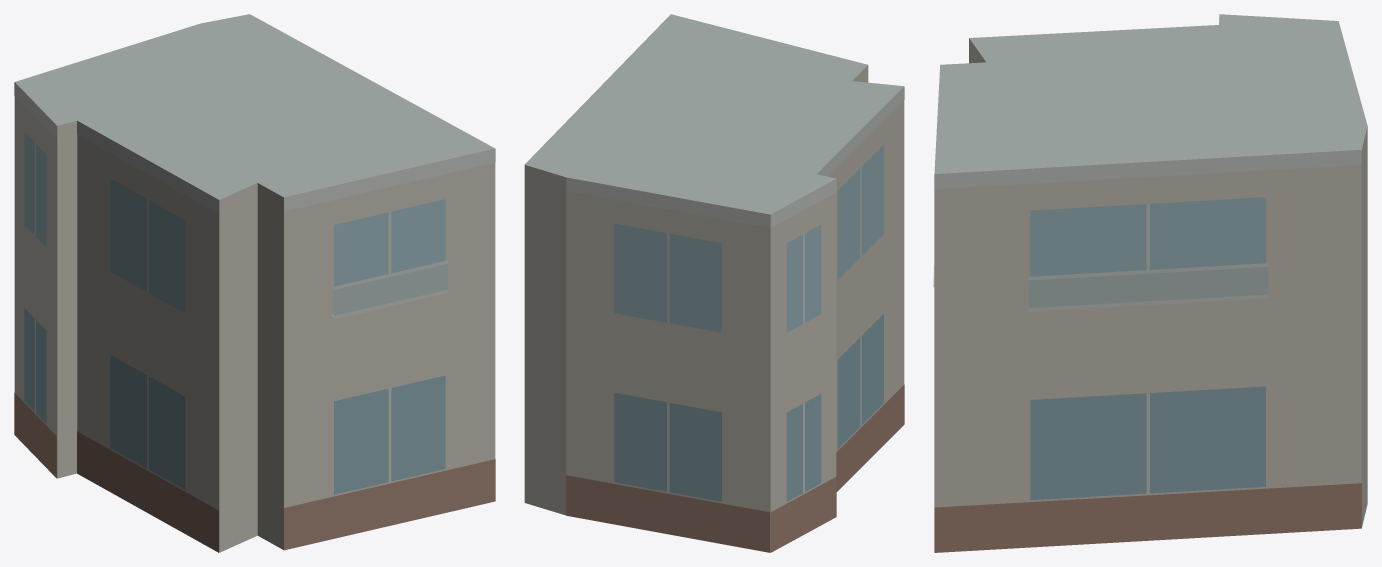
The model's file is survey-upis-32467515.glb.
The picture shows the model from 3 angles, left to right: view 1: azimuth 30°, elevation 25°; view 2: azimuth 150°, elevation 25°; view 3: azimuth 270°, elevation 25°; orthographic projection. The views are drawn at different scales.
Visible parts, largest first — view 1: survey-upis-32467515.tmp; view 2: survey-upis-32467515.tmp; view 3: survey-upis-32467515.tmp.
Part boxes in pixels (box(x1,y1,x2,y2)): survey-upis-32467515.tmp: box(14, 14, 495, 552); survey-upis-32467515.tmp: box(524, 14, 904, 552); survey-upis-32467515.tmp: box(933, 14, 1367, 552).
Bounding box in the file's own units: 5.54 × 6.1 × 6.35.
